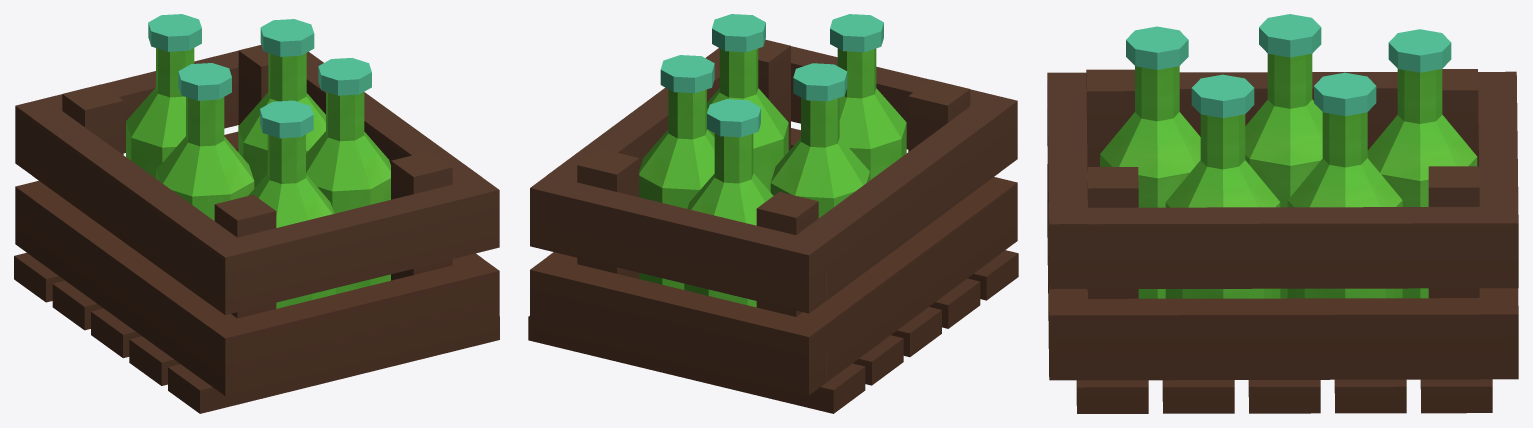
The model's file is box with bottles.fbx.
3 views of the same model, side by side, from view 1: azimuth 30°, elevation 25°; view 2: azimuth 150°, elevation 25°; view 3: azimuth 270°, elevation 25° (orthographic). The views are drawn at different scales.
Parts seen in each view (by area): view 1: box_with_bottles; view 2: box_with_bottles; view 3: box_with_bottles.
Boxes of the visible parts, bbox=[...] form: box_with_bottles: bbox=[14, 14, 499, 413]; box_with_bottles: bbox=[528, 14, 1018, 413]; box_with_bottles: bbox=[1047, 14, 1518, 413].
Bounding box in the file's own units: 214 × 166 × 256.
Materials: 1 (1 with a texture image).
